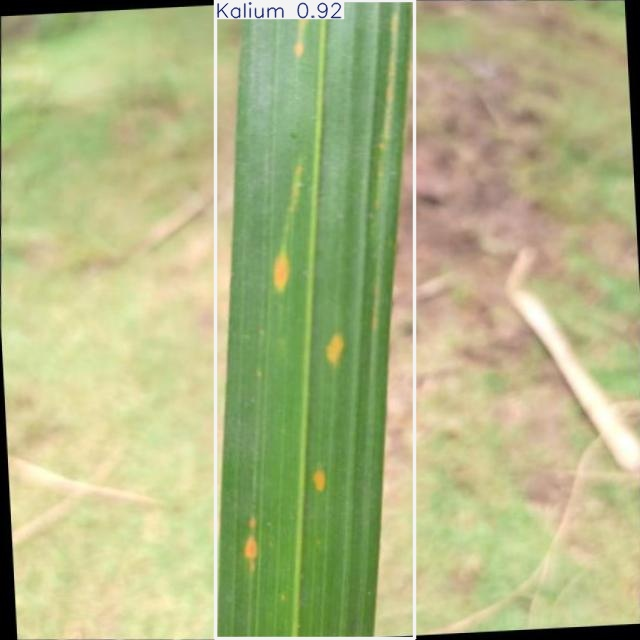Kalium: (215, 1, 414, 639)
